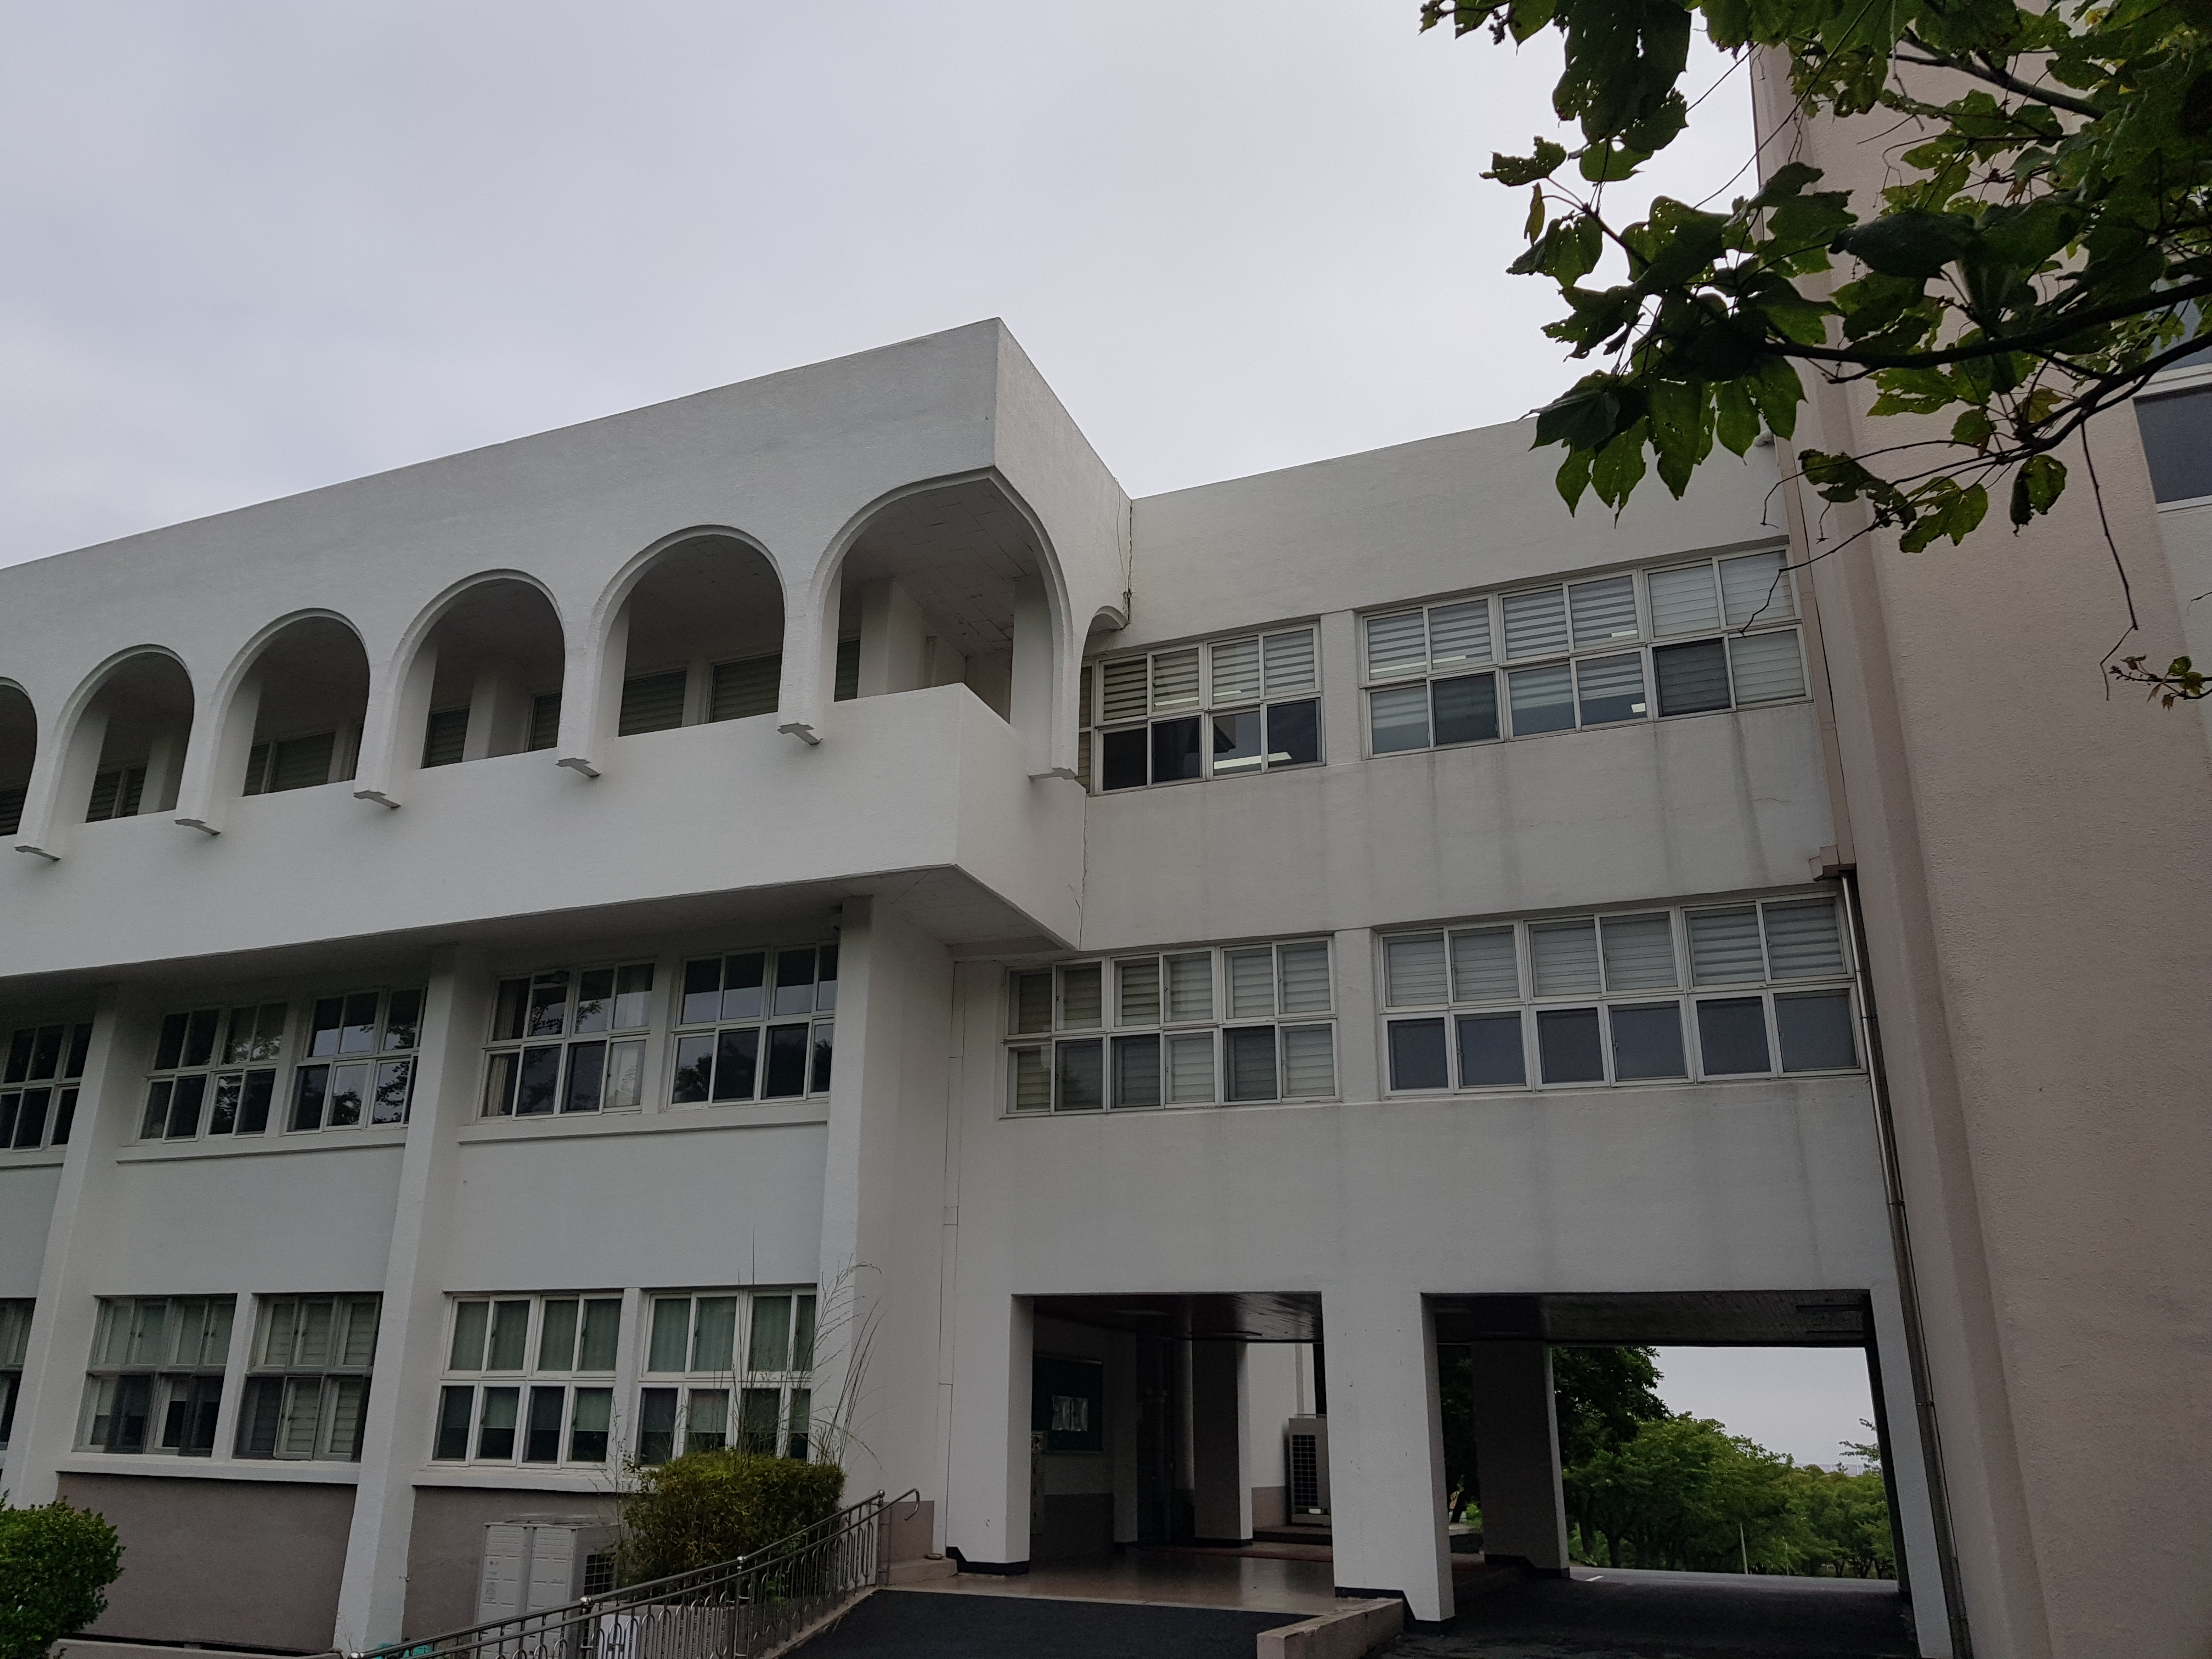Main Building of University: (14, 342, 2156, 1605), (38, 498, 805, 786)
